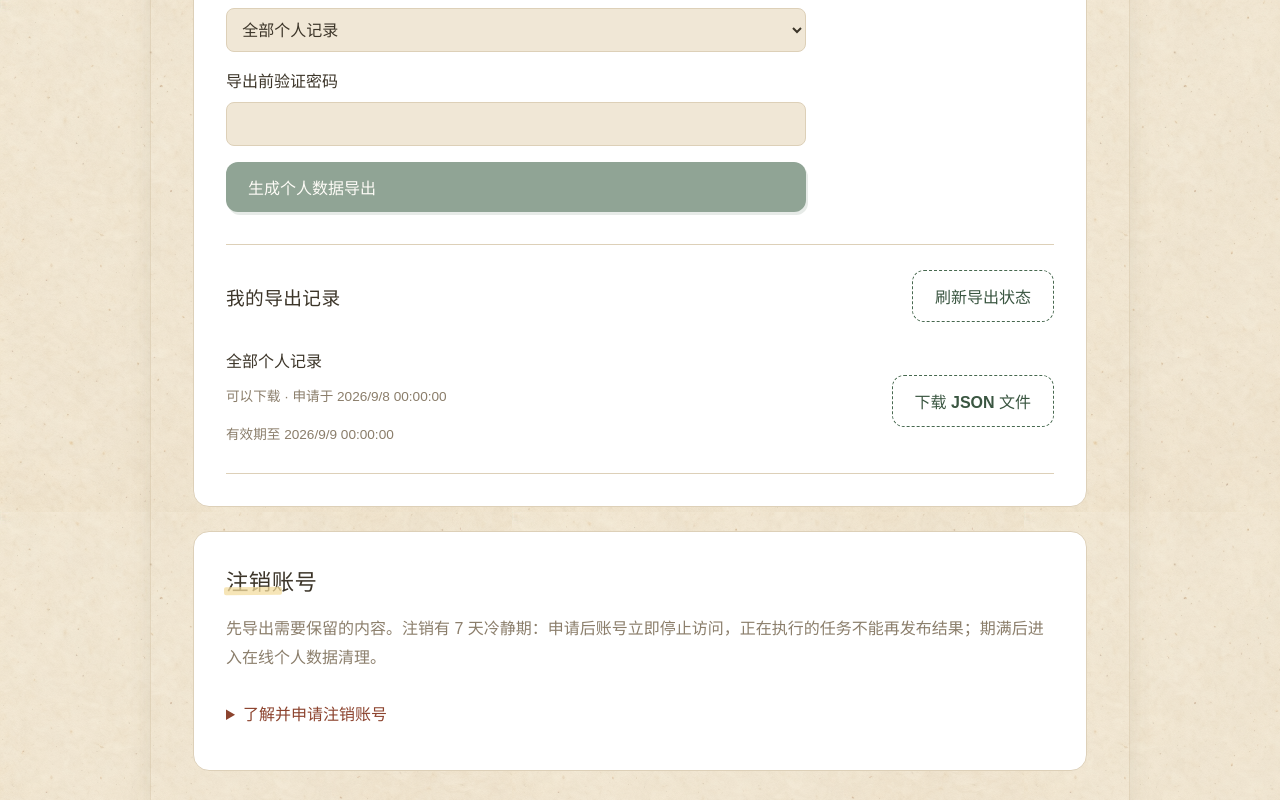
下载每次重新请求受控接口，不暴露长期链接，释放临时Blob引用
The width and height of the screenshot is (1280, 800).
(page scrolled)
What coordinates should you click on to do the following:
click the button "下载 JSON 文件"
I would click on:
 (973, 401)
Its box is [892, 375, 1054, 427].
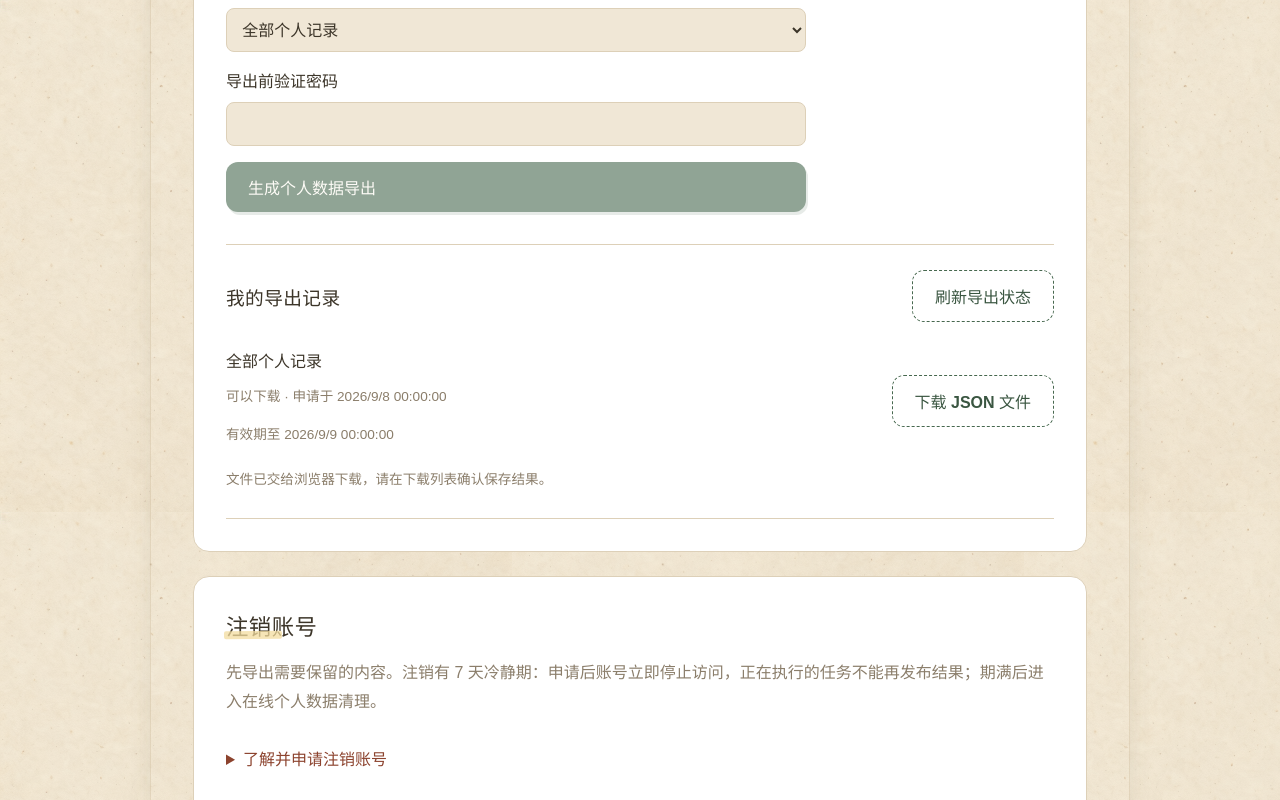
Result: the text "文件已交给浏览器下载，请在下载列表确认保存结果。" is shown at [226, 472, 552, 487]
